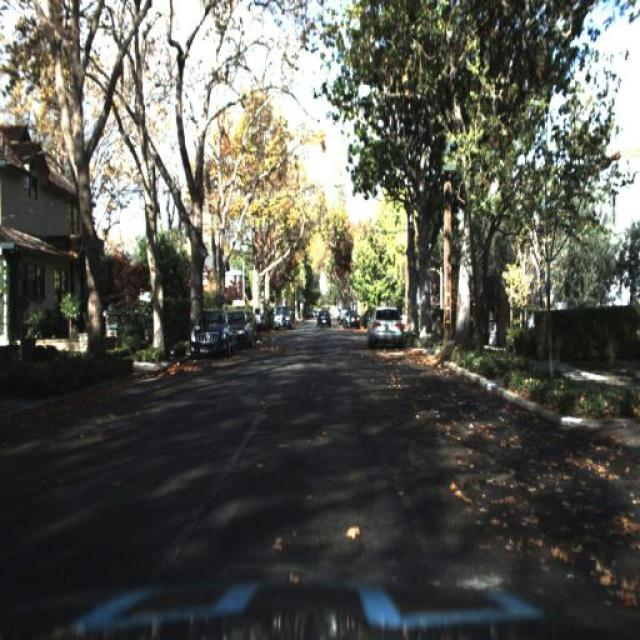car: (184, 296, 234, 362), (364, 305, 404, 351), (232, 296, 254, 349), (232, 305, 253, 351), (270, 301, 294, 329), (342, 308, 362, 333), (313, 308, 336, 328), (342, 306, 361, 329)
trafficLight: (251, 302, 265, 344), (252, 302, 264, 342)
